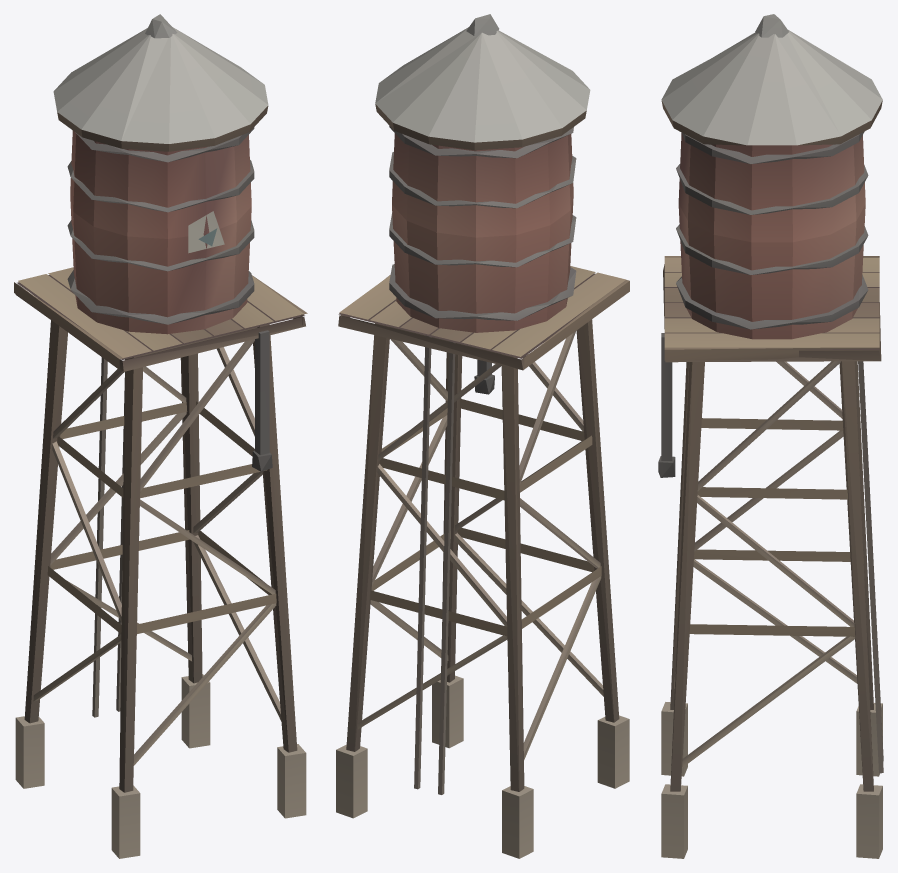
Rendered from watertower.lod1.glb.
3 renders of one model, left to right at view 1: azimuth 30°, elevation 25°; view 2: azimuth 150°, elevation 25°; view 3: azimuth 270°, elevation 25°, orthographic.
Bounding box in the file's own units: 2.84 × 11.24 × 2.89.
